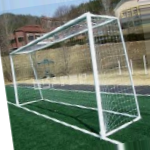goals: (9, 9, 142, 140)
